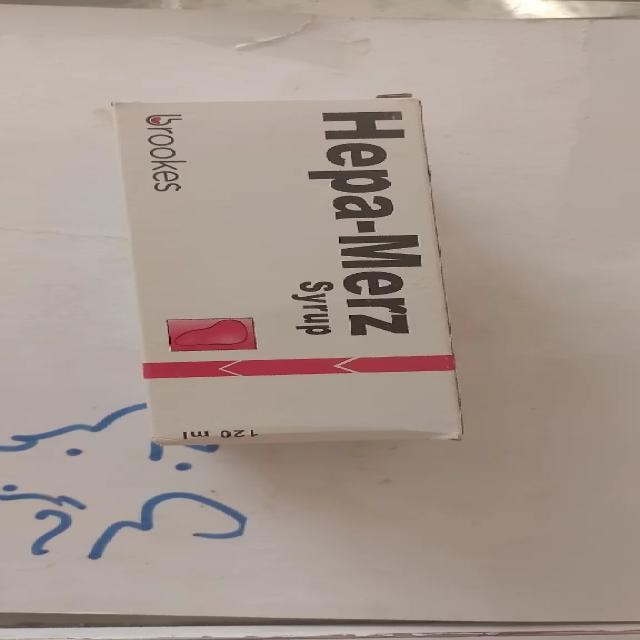drug-name: (309, 107, 437, 336)
